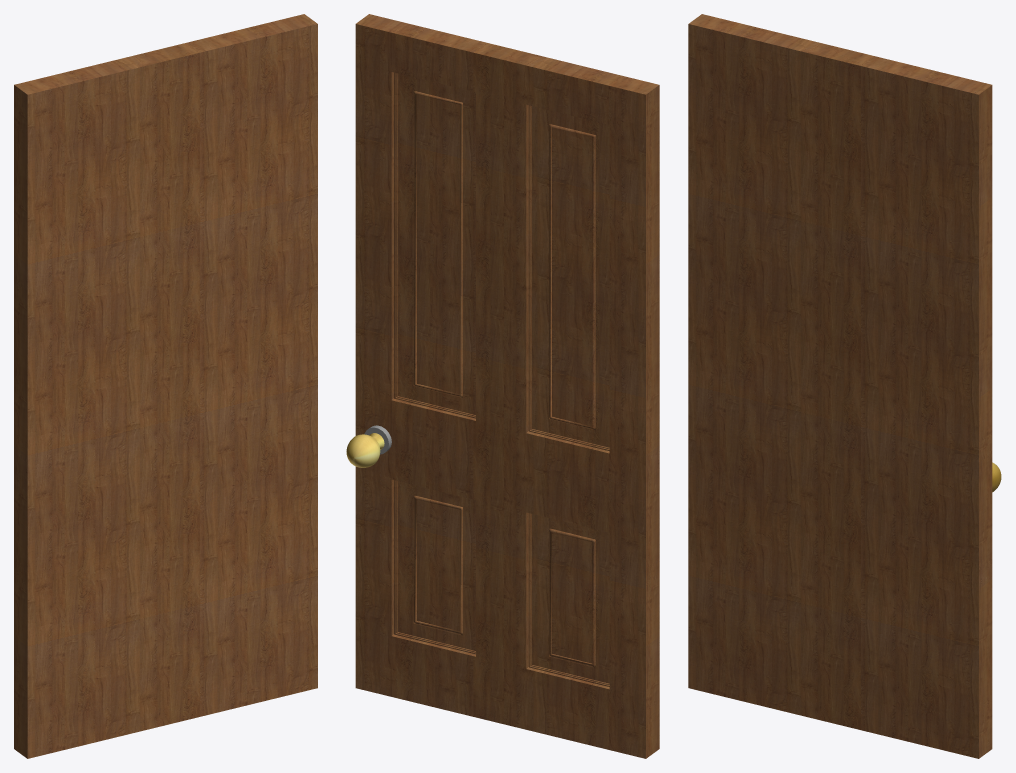
File: Door.FBX
3 renders of one model, left to right at view 1: azimuth 30°, elevation 25°; view 2: azimuth 150°, elevation 25°; view 3: azimuth 330°, elevation 25°, orthographic.
Visible parts, largest first — view 1: Box001; view 2: Box001, Sphere001; view 3: Box001.
Part boxes in pixels (bbox=[...]): Box001: bbox=[14, 14, 317, 758]; Box001: bbox=[355, 14, 659, 758]; Sphere001: bbox=[346, 433, 384, 467]; Box001: bbox=[688, 14, 992, 758].
Size of the model in its own units: 53.04 by 116 by 12.24.
